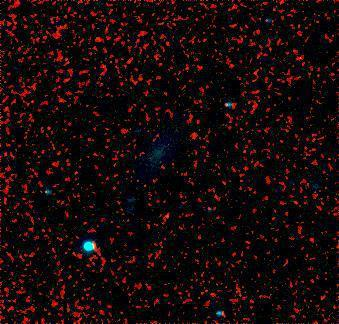star: (152, 203, 182, 233)
